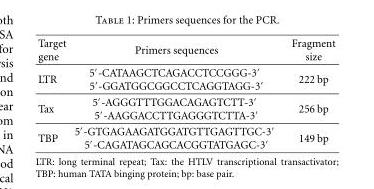table: (37, 36, 334, 150)
table column: (69, 36, 281, 150), (281, 36, 334, 150), (37, 36, 69, 150)
table column header: (37, 36, 334, 63)
table row: (37, 63, 334, 93), (37, 93, 334, 122), (37, 122, 334, 150), (37, 36, 334, 63)
